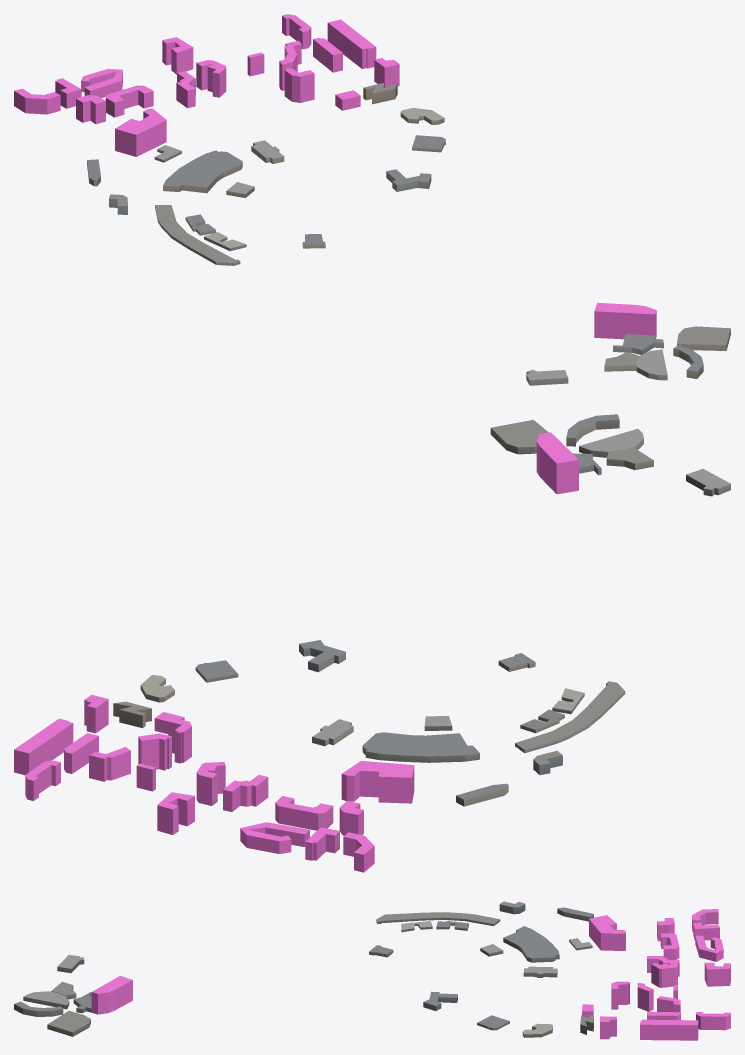
File: bld_11_1.fbx
3 views of the same model, one above another, from view 1: azimuth 30°, elevation 25°; view 2: azimuth 150°, elevation 25°; view 3: azimuth 270°, elevation 25° (orthographic). The views are drawn at different scales.
Visible parts, largest first — view 1: bld_11_1_COL, bld_11_1_LOD0; view 2: bld_11_1_COL, bld_11_1_LOD0; view 3: bld_11_1_COL, bld_11_1_LOD0.
Part boxes in pixels (x1,y1,x2,y2): bld_11_1_COL: (14, 14, 656, 339); bld_11_1_LOD0: (61, 56, 730, 385); bld_11_1_COL: (14, 432, 578, 872); bld_11_1_LOD0: (113, 414, 730, 851); bld_11_1_COL: (91, 909, 730, 1040); bld_11_1_LOD0: (14, 901, 593, 1037).
Size of what is drawn, in the model's own units: 832 by 60.57 by 1901.
